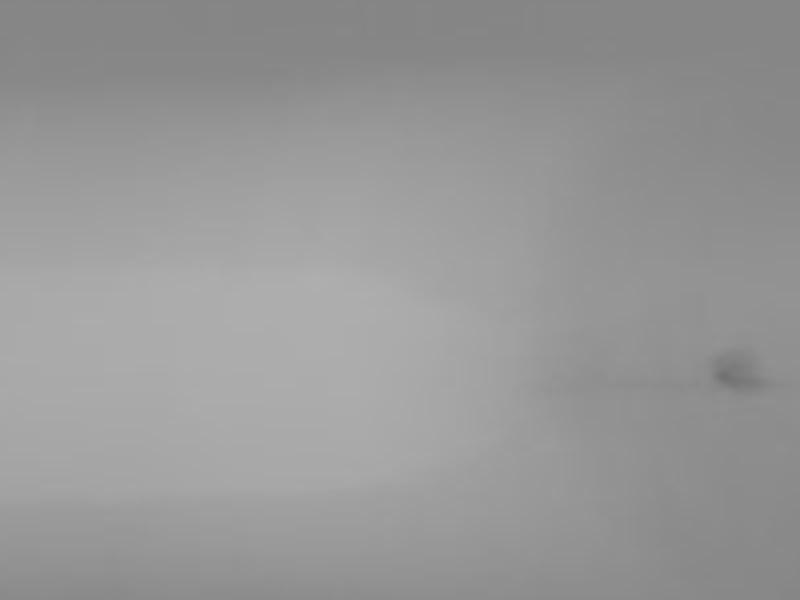defect: (715, 349, 765, 390)
